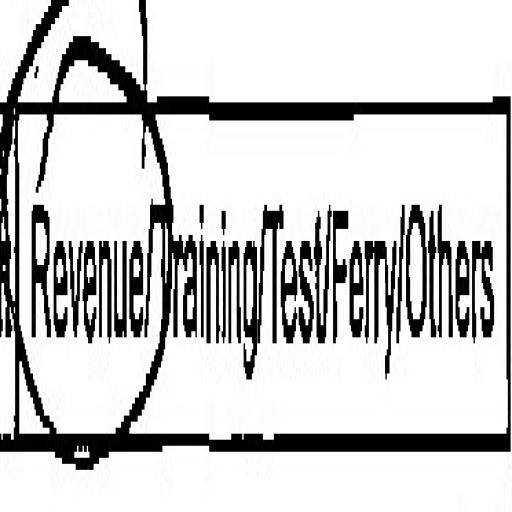check: (14, 0, 156, 512)
